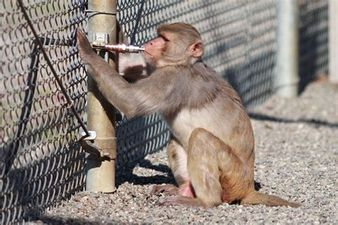monkey: (38, 12, 307, 213)
